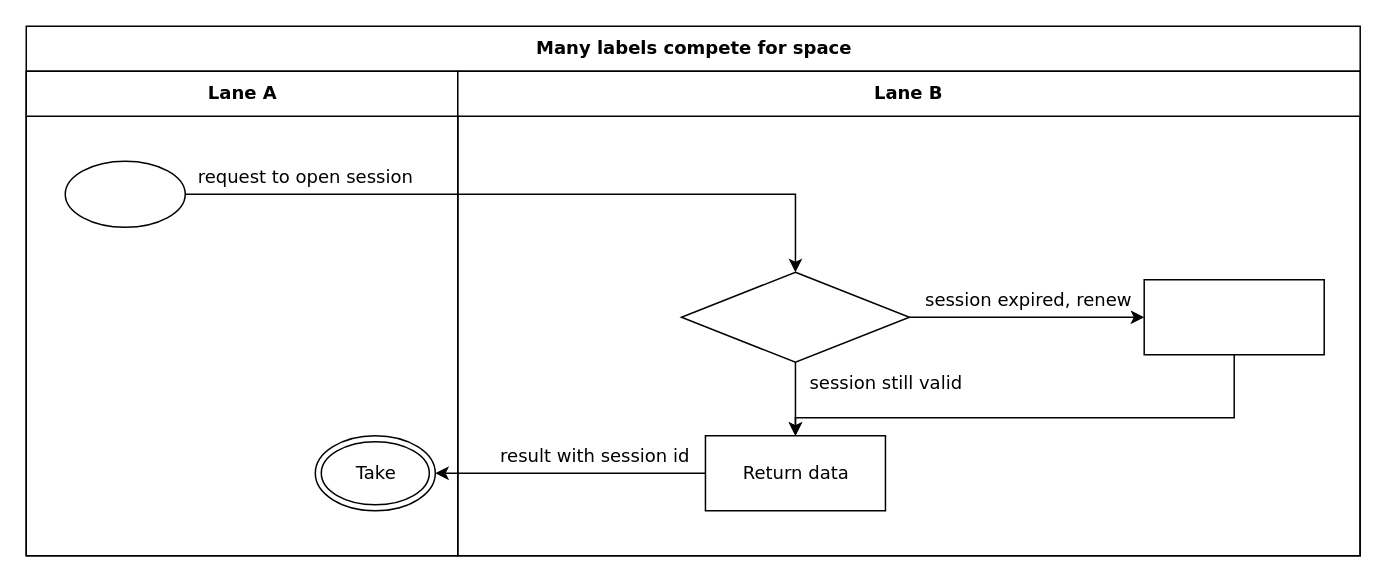
This 1388x582 diagram has some shape labels left out. The centre of each missing label's shape, as x and y in pixels:
"Enter" goes at pixel 124 193.
"Issue session" goes at pixel 1233 316.
"Session valid?" goes at pixel 794 316.
